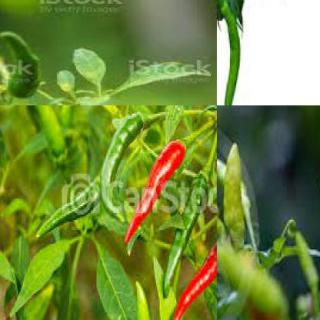green_chilli: (162, 168, 214, 300), (97, 108, 144, 222), (36, 163, 103, 242), (0, 30, 45, 103), (222, 141, 250, 246), (217, 0, 240, 105), (294, 227, 319, 292)
